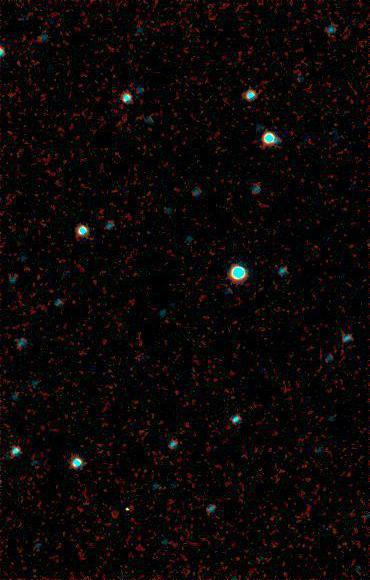star: (113, 493, 143, 523)
